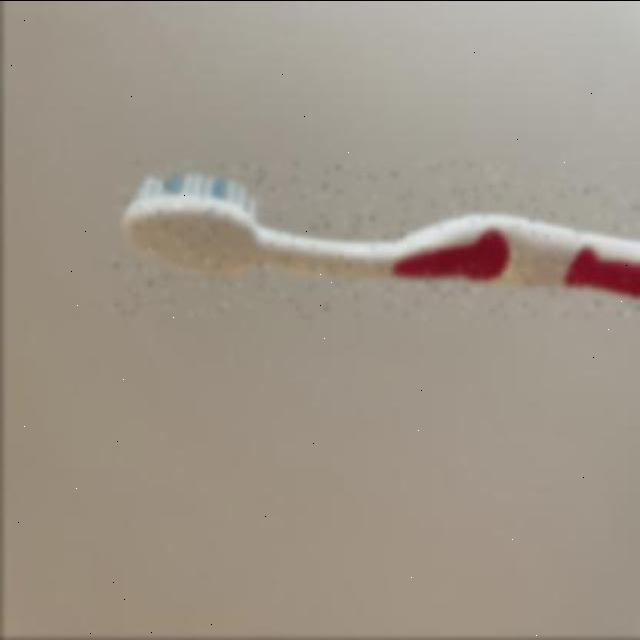toothbrush: (108, 164, 640, 318)
